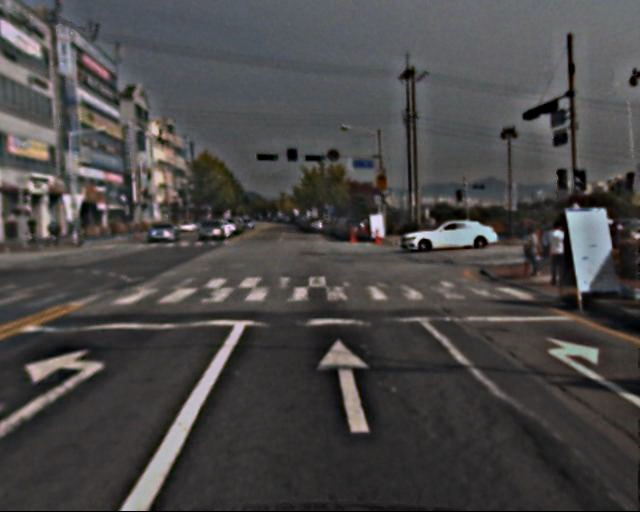person: (534, 221, 571, 285), (514, 223, 543, 281)
